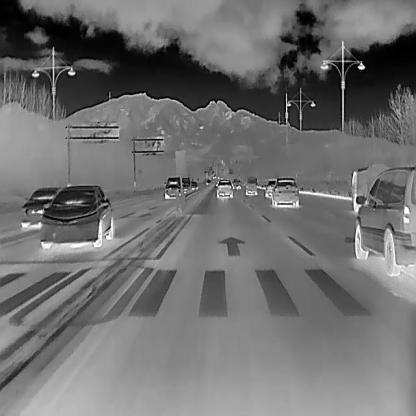car: (354, 166, 416, 275), (39, 185, 113, 249), (351, 163, 397, 211), (20, 186, 59, 229), (271, 177, 299, 207), (164, 175, 181, 198), (215, 178, 233, 197), (263, 179, 278, 197), (245, 175, 258, 195), (179, 176, 190, 194), (231, 178, 241, 188), (189, 179, 198, 190), (206, 178, 212, 184)
